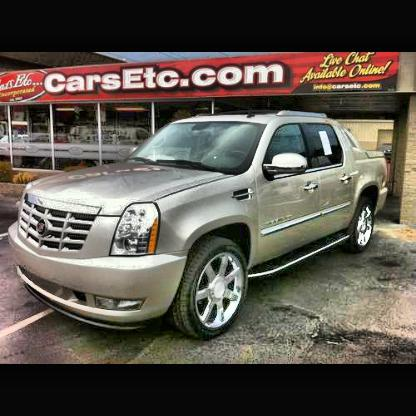Cadillac Escalade EXT Crew Cab 2007: (8, 112, 392, 341)
